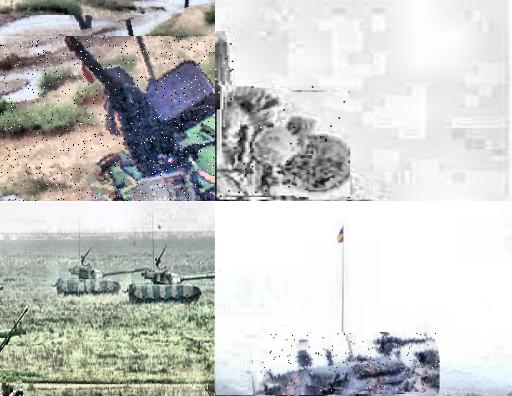tanks: (61, 37, 216, 202), (219, 88, 347, 199), (261, 333, 440, 392), (128, 250, 216, 304), (55, 250, 148, 296), (216, 38, 236, 97), (2, 388, 24, 395), (2, 331, 10, 338), (20, 323, 23, 338), (1, 286, 4, 292)
